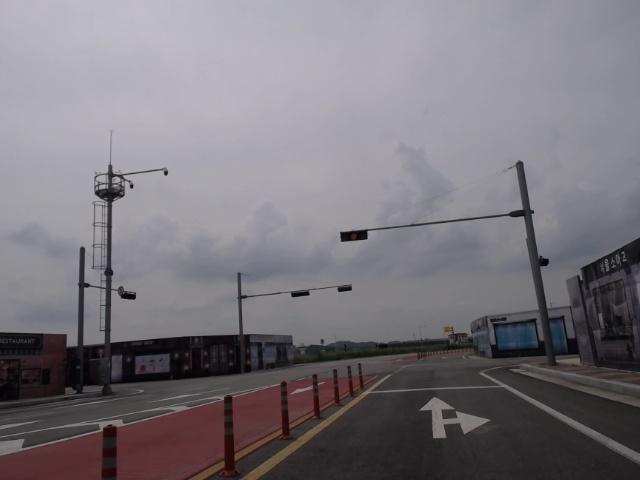orange_3: (341, 230, 367, 242)
